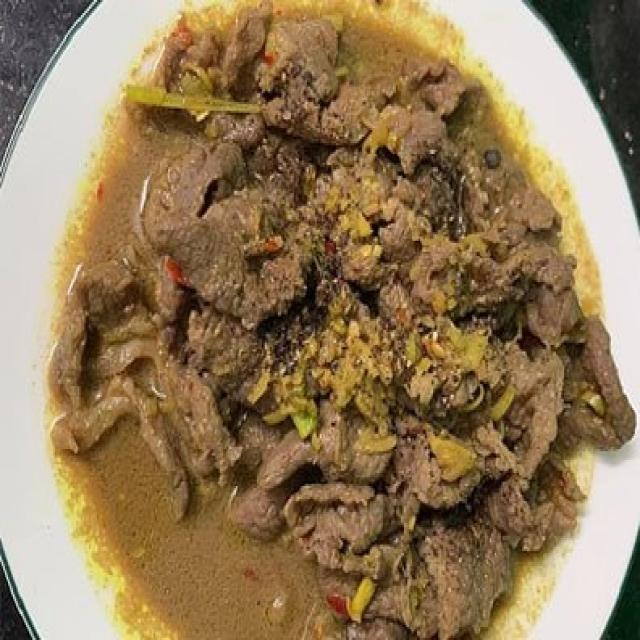bo xao: (47, 0, 634, 638)
